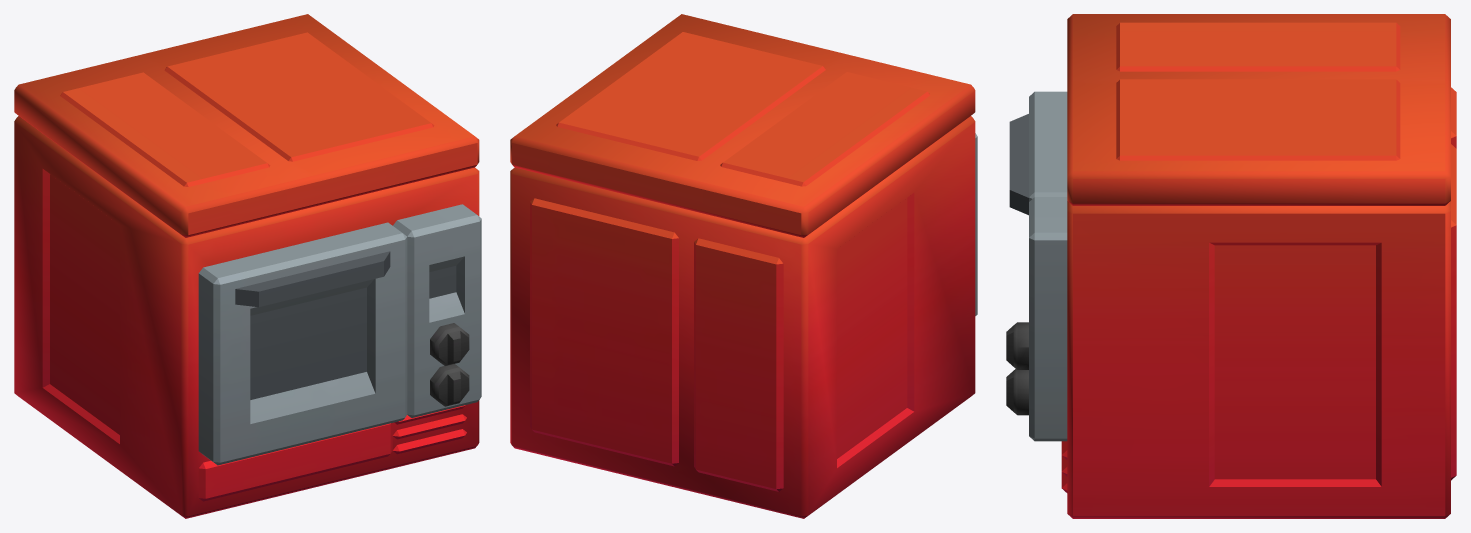
The model's file is ugn.glb.
3 renders of one model, left to right at view 1: azimuth 30°, elevation 25°; view 2: azimuth 150°, elevation 25°; view 3: azimuth 270°, elevation 25°, orthographic. The views are drawn at different scales.
Parts seen in each view (by area): view 1: Cube.068, oven_door; view 2: Cube.068, oven_door; view 3: Cube.068, oven_door.
Boxes of the visible parts, x1,y1,x2,y2 form: Cube.068: [14, 14, 481, 518]; oven_door: [198, 222, 407, 465]; Cube.068: [510, 14, 975, 518]; oven_door: [975, 133, 977, 315]; Cube.068: [1006, 14, 1456, 518]; oven_door: [1009, 91, 1067, 215].
Size of the model in its own units: 2 by 2.02 by 2.35.
1 material, 1 textured.
